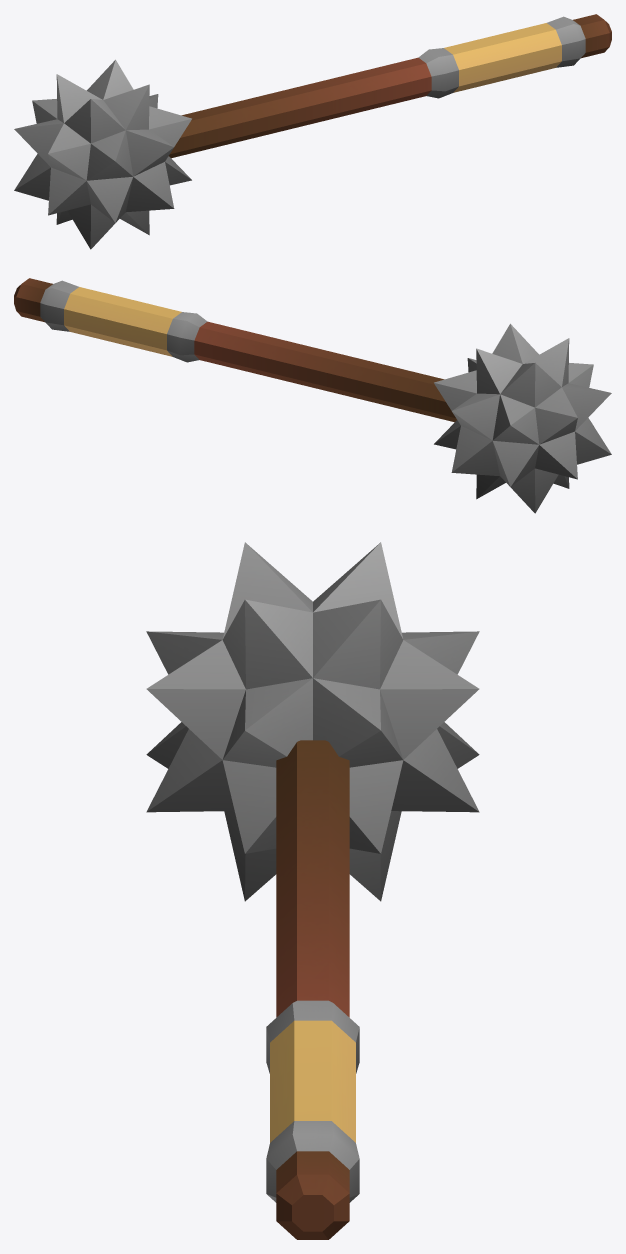
The model's file is MorningStar.fbx.
3 renders of one model, top to bottom at view 1: azimuth 30°, elevation 25°; view 2: azimuth 150°, elevation 25°; view 3: azimuth 270°, elevation 25°, orthographic. The views are drawn at different scales.
Parts seen in each view (by area): view 1: MorningStar; view 2: MorningStar; view 3: MorningStar.
Boxes of the visible parts, x1,y1,x2,y2 form: MorningStar: (14,14,611,249); MorningStar: (14,278,611,513); MorningStar: (146,542,479,1239).
Bounding box in the file's own units: 0.00764 × 0.00192 × 0.00192.
